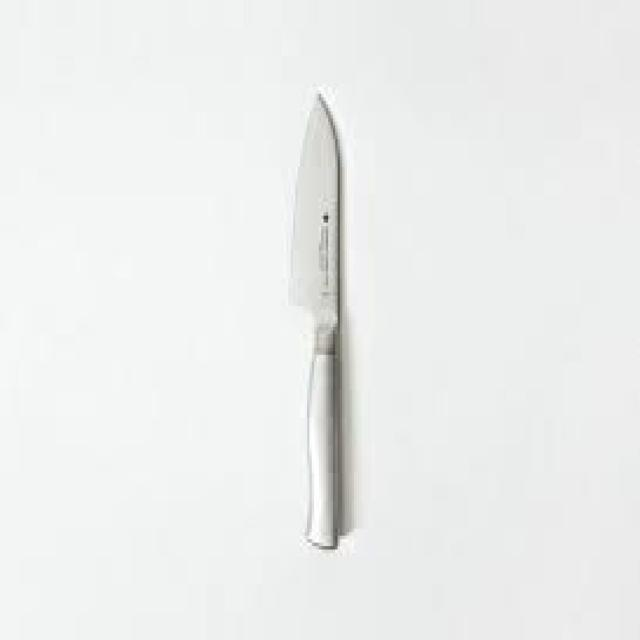Knife: (286, 87, 342, 550)
